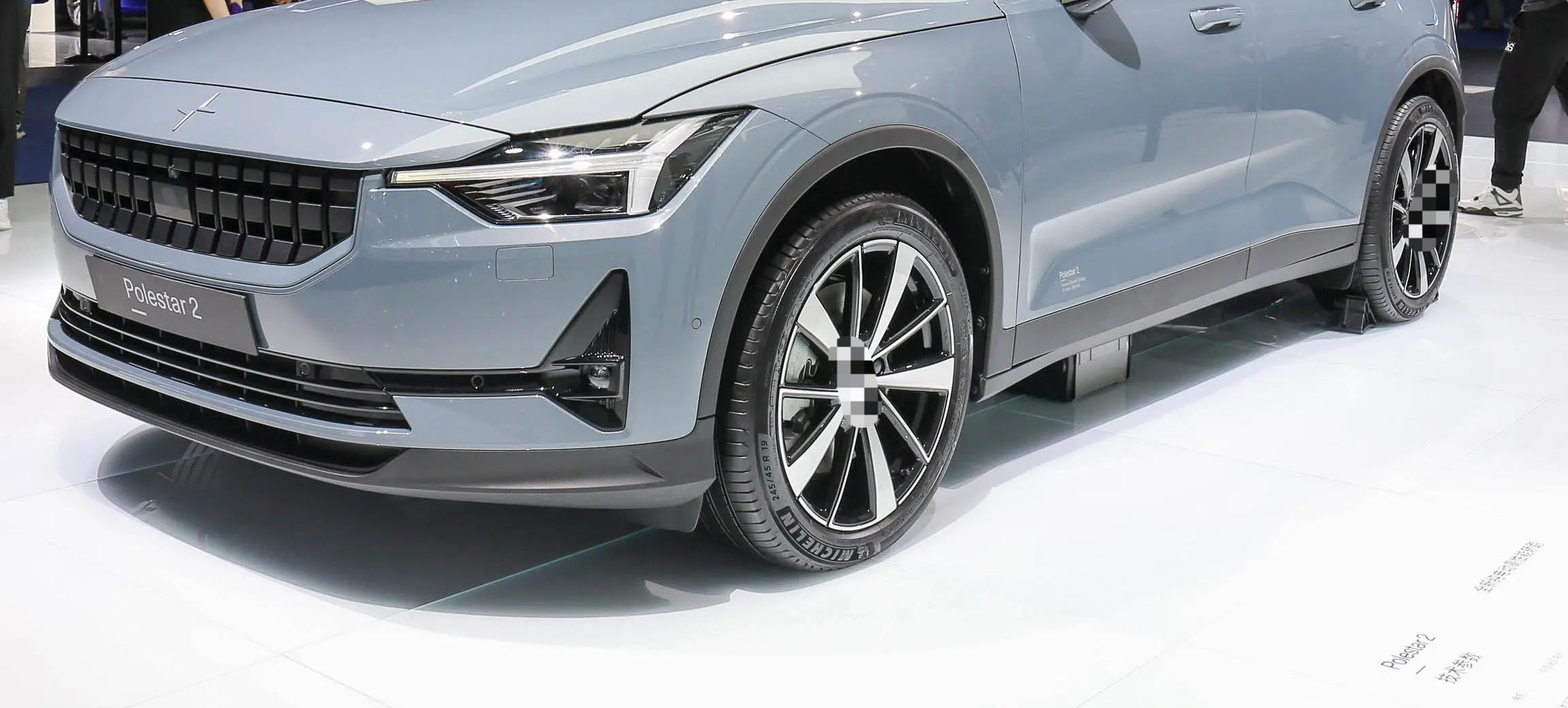Polestar: (172, 91, 221, 131)
